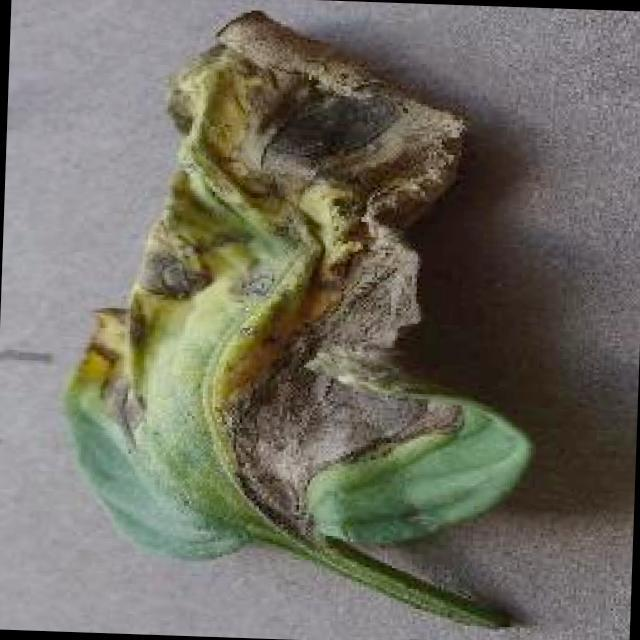Tomato Early blight leaf: (56, 5, 544, 577)
